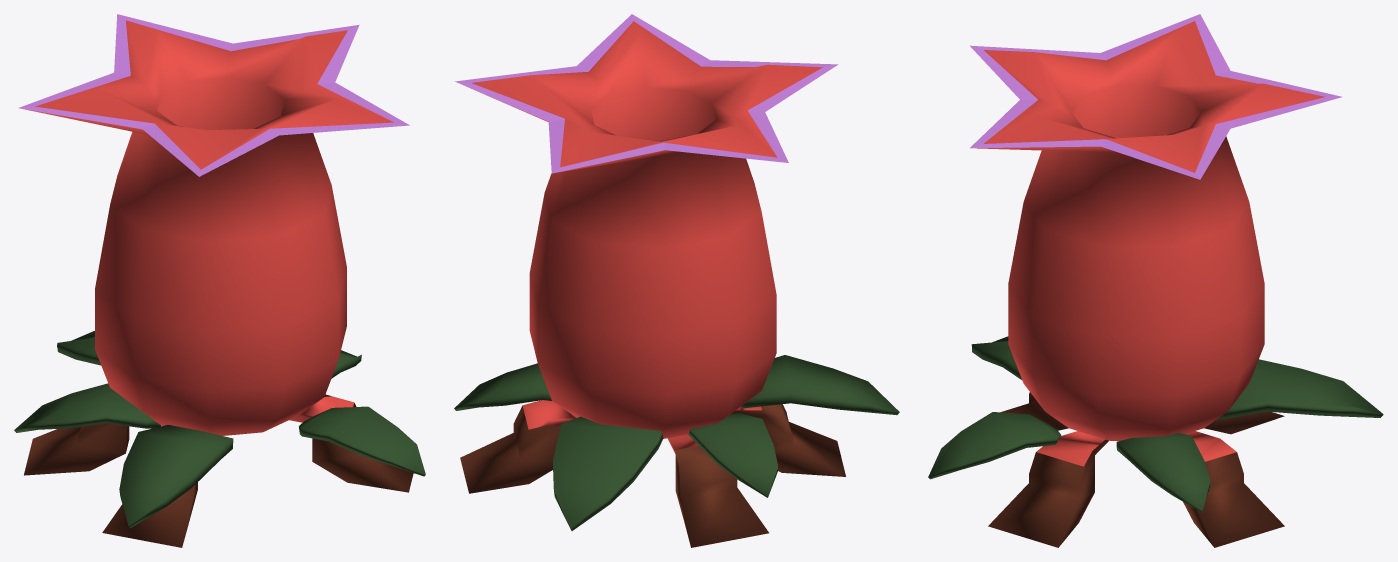
File: carnívora.fbx
3 renders of one model, left to right at view 1: azimuth 30°, elevation 25°; view 2: azimuth 150°, elevation 25°; view 3: azimuth 270°, elevation 25°, orthographic. The views are drawn at different scales.
Visible parts, largest first — view 1: Sphere.016, Plane.012, Sphere.005, Sphere.006; view 2: Sphere.016, Plane.012, Sphere.005, Sphere.006; view 3: Sphere.016, Plane.012, Sphere.005, Sphere.006.
Part boxes in pixels (x1,y1,x2,y2): Sphere.016: (23,20,393,435); Plane.012: (14,331,425,528); Sphere.005: (24,394,413,547); Sphere.006: (19,14,409,176); Sphere.016: (472,21,822,453); Plane.012: (454,355,899,530); Sphere.005: (460,404,845,547); Sphere.006: (455,14,838,173); Sphere.016: (977,21,1324,466); Plane.012: (928,336,1383,512); Sphere.005: (988,392,1284,547); Sphere.006: (970,14,1341,179).
Size of the model in its own units: 303 by 330 by 350.
